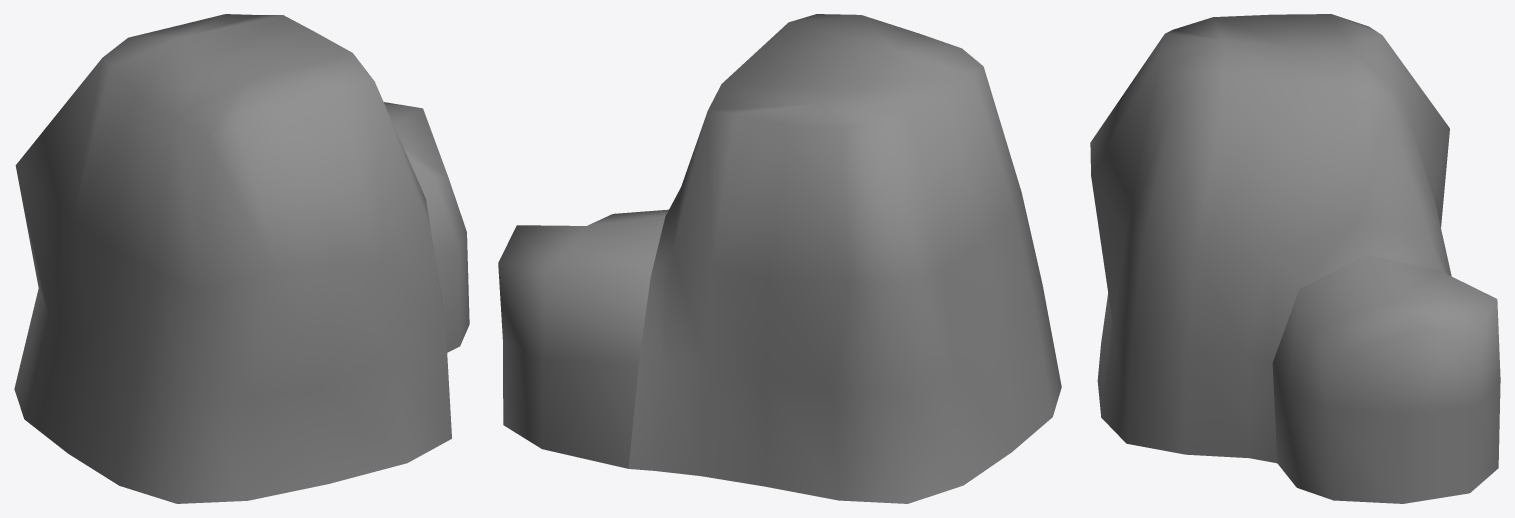
The model's file is StoneDesert_1.fbx.
The picture shows the model from 3 angles, left to right: view 1: azimuth 30°, elevation 25°; view 2: azimuth 150°, elevation 25°; view 3: azimuth 270°, elevation 25°; orthographic projection. The views are drawn at different scales.
Parts seen in each view (by area): view 1: StoneDesert1; view 2: StoneDesert1; view 3: StoneDesert1.
Boxes of the visible parts, left/top/right/bottom form: StoneDesert1: left=14, top=14, right=469, bottom=503; StoneDesert1: left=498, top=14, right=1061, bottom=503; StoneDesert1: left=1090, top=14, right=1500, bottom=503.
Size of the model in its own units: 2.59 by 2.02 by 2.24.
